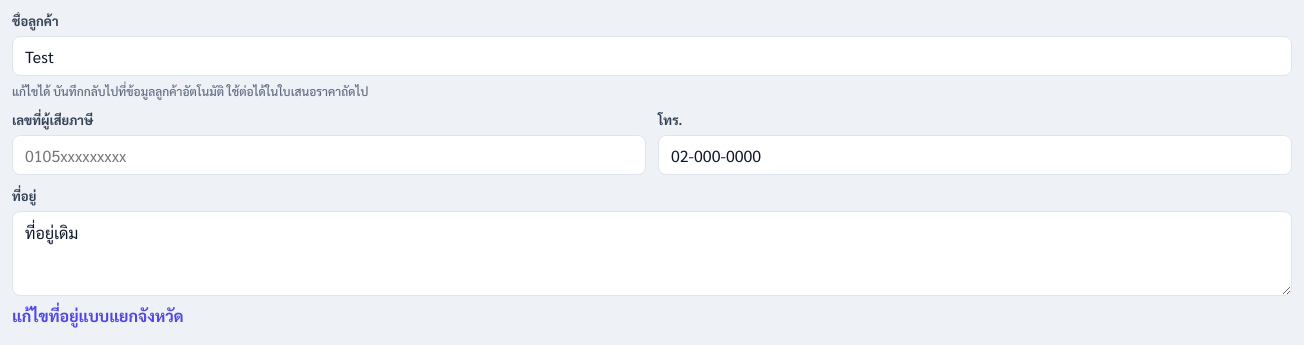
Test: switching to a DIFFERENT customer discards a dirty edit and resets every field
Type "0105551234567" into the field labelled "เลขที่ผู้เสียภาษี" at (329, 155), box [12, 135, 646, 175]
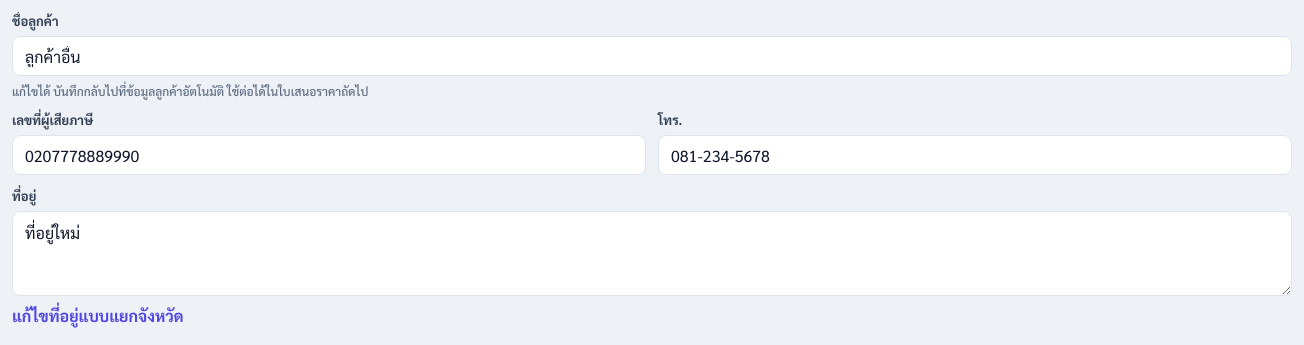
Expected: the field labelled "เลขที่ผู้เสียภาษี" holds "0207778889990", [12, 135, 646, 175]
Expected: the field labelled "โทร." holds "081-234-5678", [658, 135, 1292, 175]
Expected: the text box labelled "ที่อยู่" holds "ที่อยู่ใหม่", [12, 211, 1292, 296]
